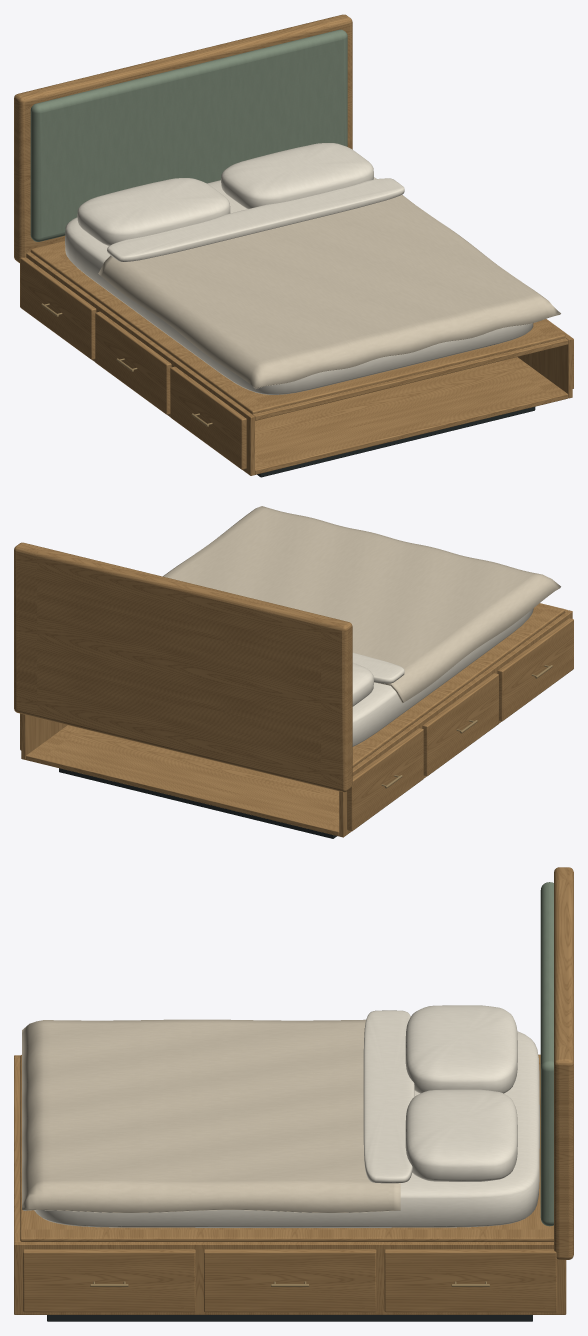
Rendered from nest-160-bed_cc0.glb.
The picture shows the model from 3 angles, top to bottom: view 1: azimuth 30°, elevation 25°; view 2: azimuth 150°, elevation 25°; view 3: azimuth 270°, elevation 25°; orthographic projection. The views are drawn at different scales.
Visible parts, largest first — view 1: Bedding | softly draped quilt, Headboard | upholstered inset, Case | horizontal panel, Headboard | oak frame, Platform | mattress deck, Mattress | upholstered ticking, Bedding | folded return, Bedding | sewn pillow, Bedding | sewn pillow.001, Side storage | drawer front, Side storage | drawer front.001, Side storage | drawer front.002 (+4 smaller); view 2: Headboard | oak frame, Bedding | softly draped quilt, Case | horizontal panel, Side storage | drawer front.001, Side storage | drawer front.002, Side storage | drawer front, Platform | mattress deck, Mattress | upholstered ticking, Case | side, Recessed structural plinth, Case | side.001, Bedding | folded return (+1 smaller); view 3: Bedding | softly draped quilt, Mattress | upholstered ticking, Side storage | drawer front.003, Side storage | drawer front.004, Side storage | drawer front.005, Bedding | sewn pillow.001, Platform | mattress deck, Bedding | sewn pillow, Case | side.001, Headboard | oak frame, Bedding | folded return, Headboard | upholstered inset (+2 smaller).
Part boxes in pixels (x1=…): Bedding | softly draped quilt: x1=98, y1=195, x2=560, y2=388; Headboard | upholstered inset: x1=30, y1=29, x2=347, y2=241; Case | horizontal panel: x1=255, y1=357, x2=568, y2=474; Headboard | oak frame: x1=14, y1=14, x2=352, y2=262; Platform | mattress deck: x1=30, y1=241, x2=565, y2=414; Mattress | upholstered ticking: x1=65, y1=177, x2=533, y2=394; Bedding | folded return: x1=107, y1=178, x2=404, y2=261; Bedding | sewn pillow: x1=77, y1=178, x2=230, y2=245; Bedding | sewn pillow.001: x1=221, y1=143, x2=373, y2=208; Side storage | drawer front: x1=170, y1=366, x2=246, y2=469; Side storage | drawer front.001: x1=95, y1=311, x2=171, y2=414; Side storage | drawer front.002: x1=20, y1=257, x2=96, y2=359; Headboard | oak frame: x1=14, y1=542, x2=352, y2=792; Bedding | softly draped quilt: x1=163, y1=506, x2=560, y2=703; Case | horizontal panel: x1=26, y1=725, x2=339, y2=836; Side storage | drawer front.001: x1=422, y1=673, x2=498, y2=776; Side storage | drawer front.002: x1=347, y1=728, x2=423, y2=831; Side storage | drawer front: x1=497, y1=618, x2=573, y2=721; Platform | mattress deck: x1=352, y1=603, x2=565, y2=767; Mattress | upholstered ticking: x1=352, y1=608, x2=533, y2=746; Case | side: x1=339, y1=610, x2=572, y2=837; Recessed structural plinth: x1=59, y1=768, x2=336, y2=838; Case | side.001: x1=21, y1=714, x2=67, y2=759; Bedding | folded return: x1=352, y1=652, x2=404, y2=683; Bedding | softly draped quilt: x1=22, y1=1019, x2=400, y2=1212; Mattress | upholstered ticking: x1=34, y1=1031, x2=539, y2=1227; Side storage | drawer front.003: x1=23, y1=1249, x2=195, y2=1312; Side storage | drawer front.004: x1=204, y1=1249, x2=376, y2=1312; Side storage | drawer front.005: x1=384, y1=1249, x2=556, y2=1312; Bedding | sewn pillow.001: x1=405, y1=1089, x2=517, y2=1181; Platform | mattress deck: x1=20, y1=1054, x2=553, y2=1241; Bedding | sewn pillow: x1=405, y1=1005, x2=517, y2=1093; Case | side.001: x1=14, y1=1242, x2=566, y2=1314; Headboard | oak frame: x1=554, y1=867, x2=573, y2=1259; Bedding | folded return: x1=363, y1=1010, x2=414, y2=1183; Headboard | upholstered inset: x1=540, y1=882, x2=553, y2=1226.
Bounding box in the file's own units: 1.89 × 1.21 × 2.2.
Materials: 7 (4 with a texture image).
